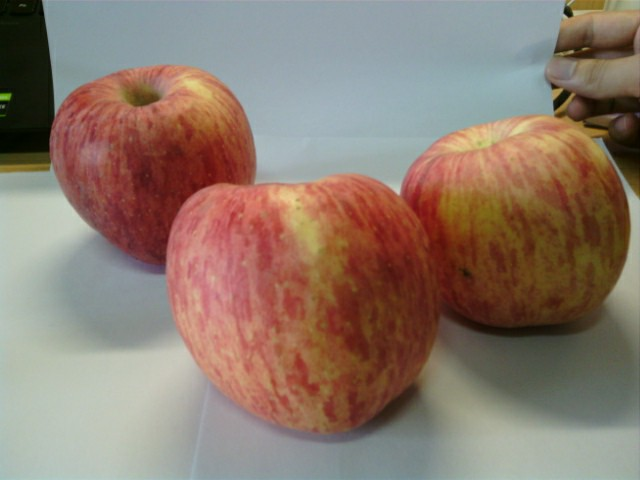normal_apple: (162, 177, 445, 441), (401, 115, 632, 338), (44, 65, 261, 268)
